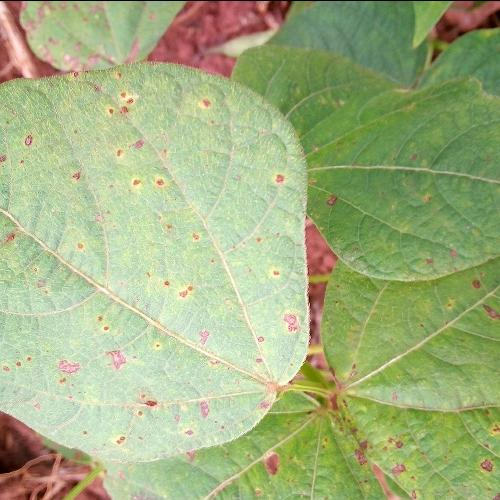hawar: (12, 82, 302, 448)
